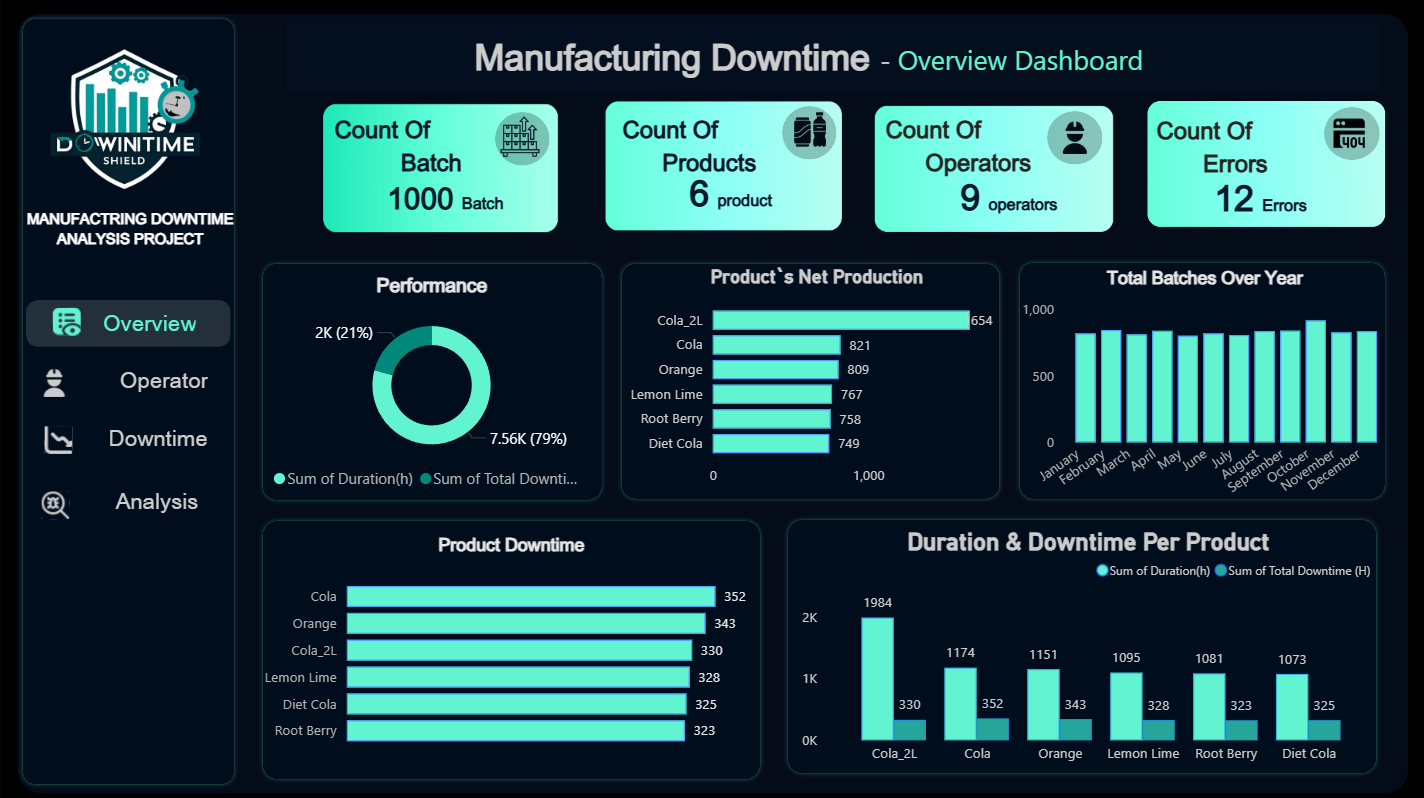

Layout of this report page (visuals, bound fields, positions):
{"tool":"tableau","page":{"name":"OverView DashBoard","canvas":[1000,1000],"units":"permille","ordinal":3},"visuals":[{"type":"image","box":[3.9,10,990,114.4]},{"type":"title","box":[4.7,11.4,990.6,122.9]},{"type":"text","box":[415.6,32.9,206.7,60]},{"type":"worksheet","title":"Sheet 1","mark":"Automatic","rows":["Duration(h)"],"cols":["Product"],"box":[481.9,134.3,320,445.7]},{"type":"worksheet","title":"Sheet 5","mark":"Pie","box":[803.1,134.3,193.1,392.9]},{"type":"text","box":[58.8,180,62.5,50]},{"type":"text","box":[47.5,330,77.5,50]},{"type":"text","box":[42.5,480,88.8,50]},{"type":"worksheet","title":"TOTAL BTCHES ","mark":"Automatic","rows":["Batch (downtime)"],"cols":["Date"],"box":[485,581.4,504.4,392.9]},{"type":"text","box":[37.8,622.9,111.7,40]},{"type":"worksheet","title":"COUNT BATCHES ","mark":"Automatic","box":[47.5,678.6,78.1,62.9]},{"type":"text","box":[13.1,801.4,157.5,64.3]}]}

Visuals, with their boxes on the dashboard's canvas, which has no fixed pixel size, in thousandths of its width and height (x1, y1, x2, y2). These are canvas units, not pixel positions in the 1424x798 screenshot, which may show the page scaled, cropped or inside an application window:
image: [left=4, top=10, right=994, bottom=124]
title: [left=5, top=11, right=995, bottom=134]
text: [left=416, top=33, right=622, bottom=93]
"Sheet 1" worksheet: [left=482, top=134, right=802, bottom=580]
"Sheet 5" worksheet (Pie marks): [left=803, top=134, right=996, bottom=527]
text: [left=59, top=180, right=121, bottom=230]
text: [left=48, top=330, right=125, bottom=380]
text: [left=42, top=480, right=131, bottom=530]
"TOTAL BTCHES " worksheet: [left=485, top=581, right=989, bottom=974]
text: [left=38, top=623, right=150, bottom=663]
"COUNT BATCHES " worksheet: [left=48, top=679, right=126, bottom=742]
text: [left=13, top=801, right=171, bottom=866]
